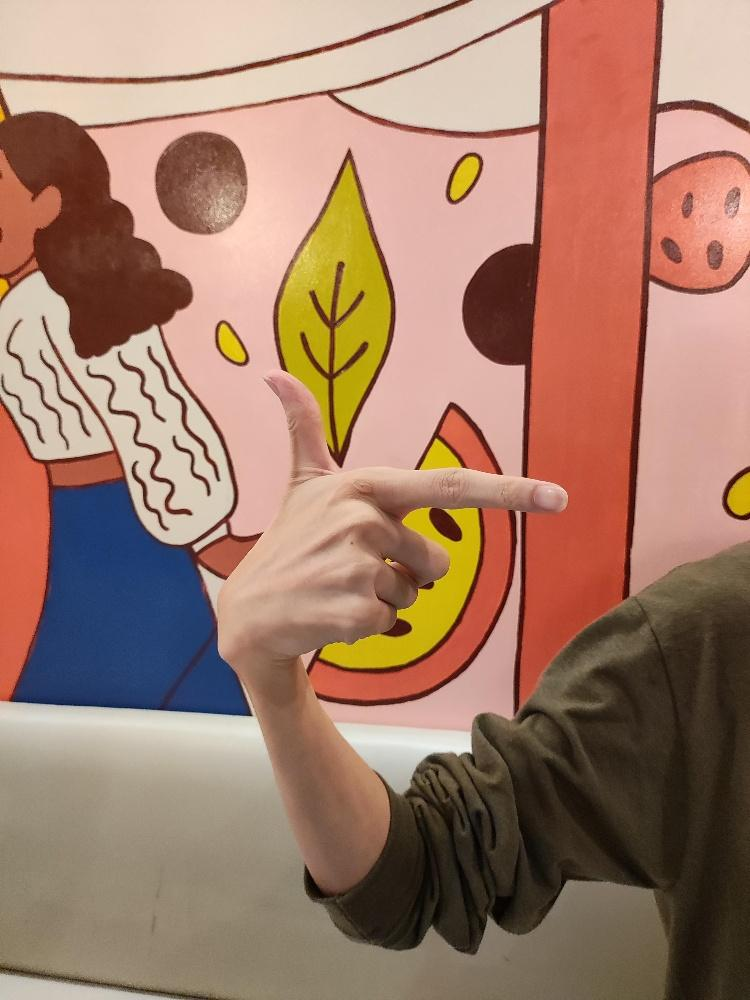g: (212, 364, 571, 671)
